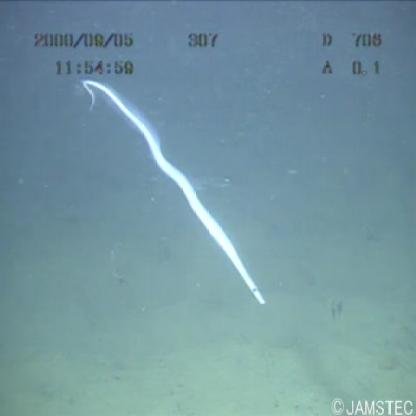Bio: (77, 75, 271, 311)
